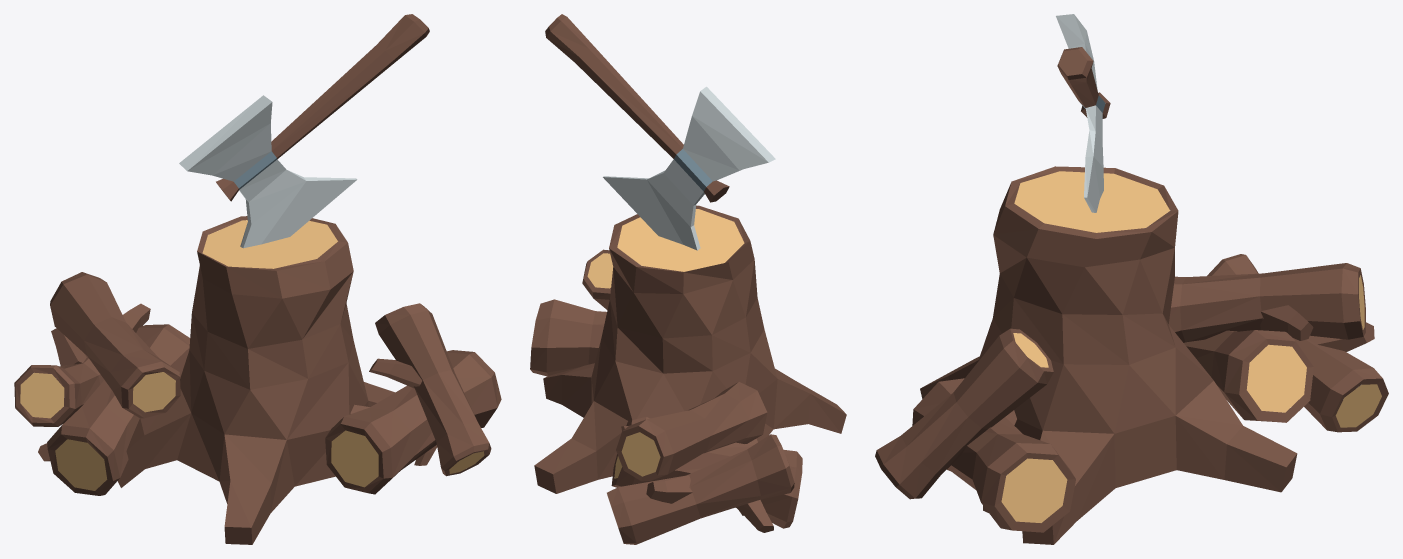
File: treeStump.glb
The picture shows the model from 3 angles, left to right: view 1: azimuth 30°, elevation 25°; view 2: azimuth 150°, elevation 25°; view 3: azimuth 270°, elevation 25°; orthographic projection. The views are drawn at different scales.
Parts seen in each view (by area): view 1: group1045108175; view 2: group1045108175; view 3: group1045108175.
Part boxes in pixels (x1,y1,x2,y2): group1045108175: [14, 14, 501, 544]; group1045108175: [530, 14, 846, 544]; group1045108175: [875, 14, 1388, 544].
Bounding box in the file's own units: 0.2707 × 0.3023 × 0.2775.
